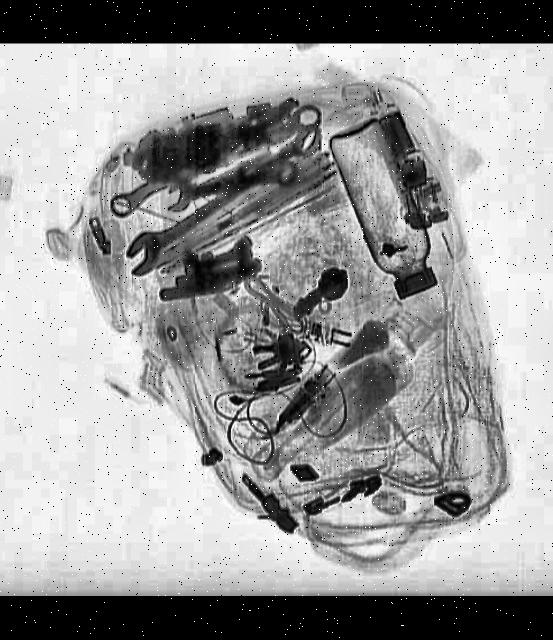Wrench: (115, 118, 332, 283), (164, 157, 303, 215)
